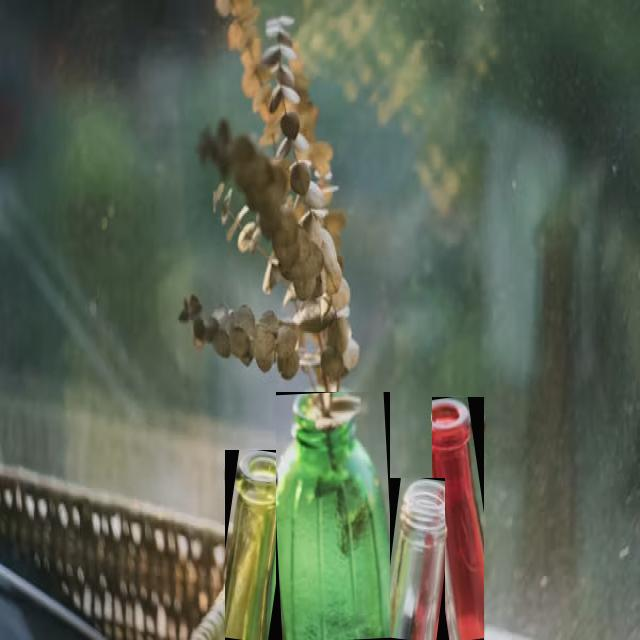Bottle: (277, 392, 389, 639), (432, 397, 484, 639), (226, 450, 279, 639), (391, 479, 444, 639)
